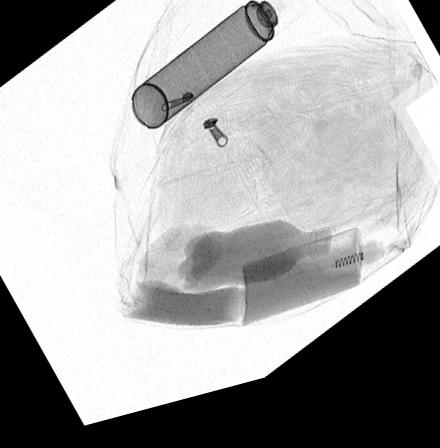Sprayer: (130, 0, 309, 136)
